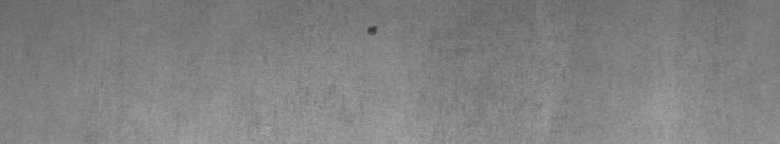fi: (364, 20, 380, 40)
